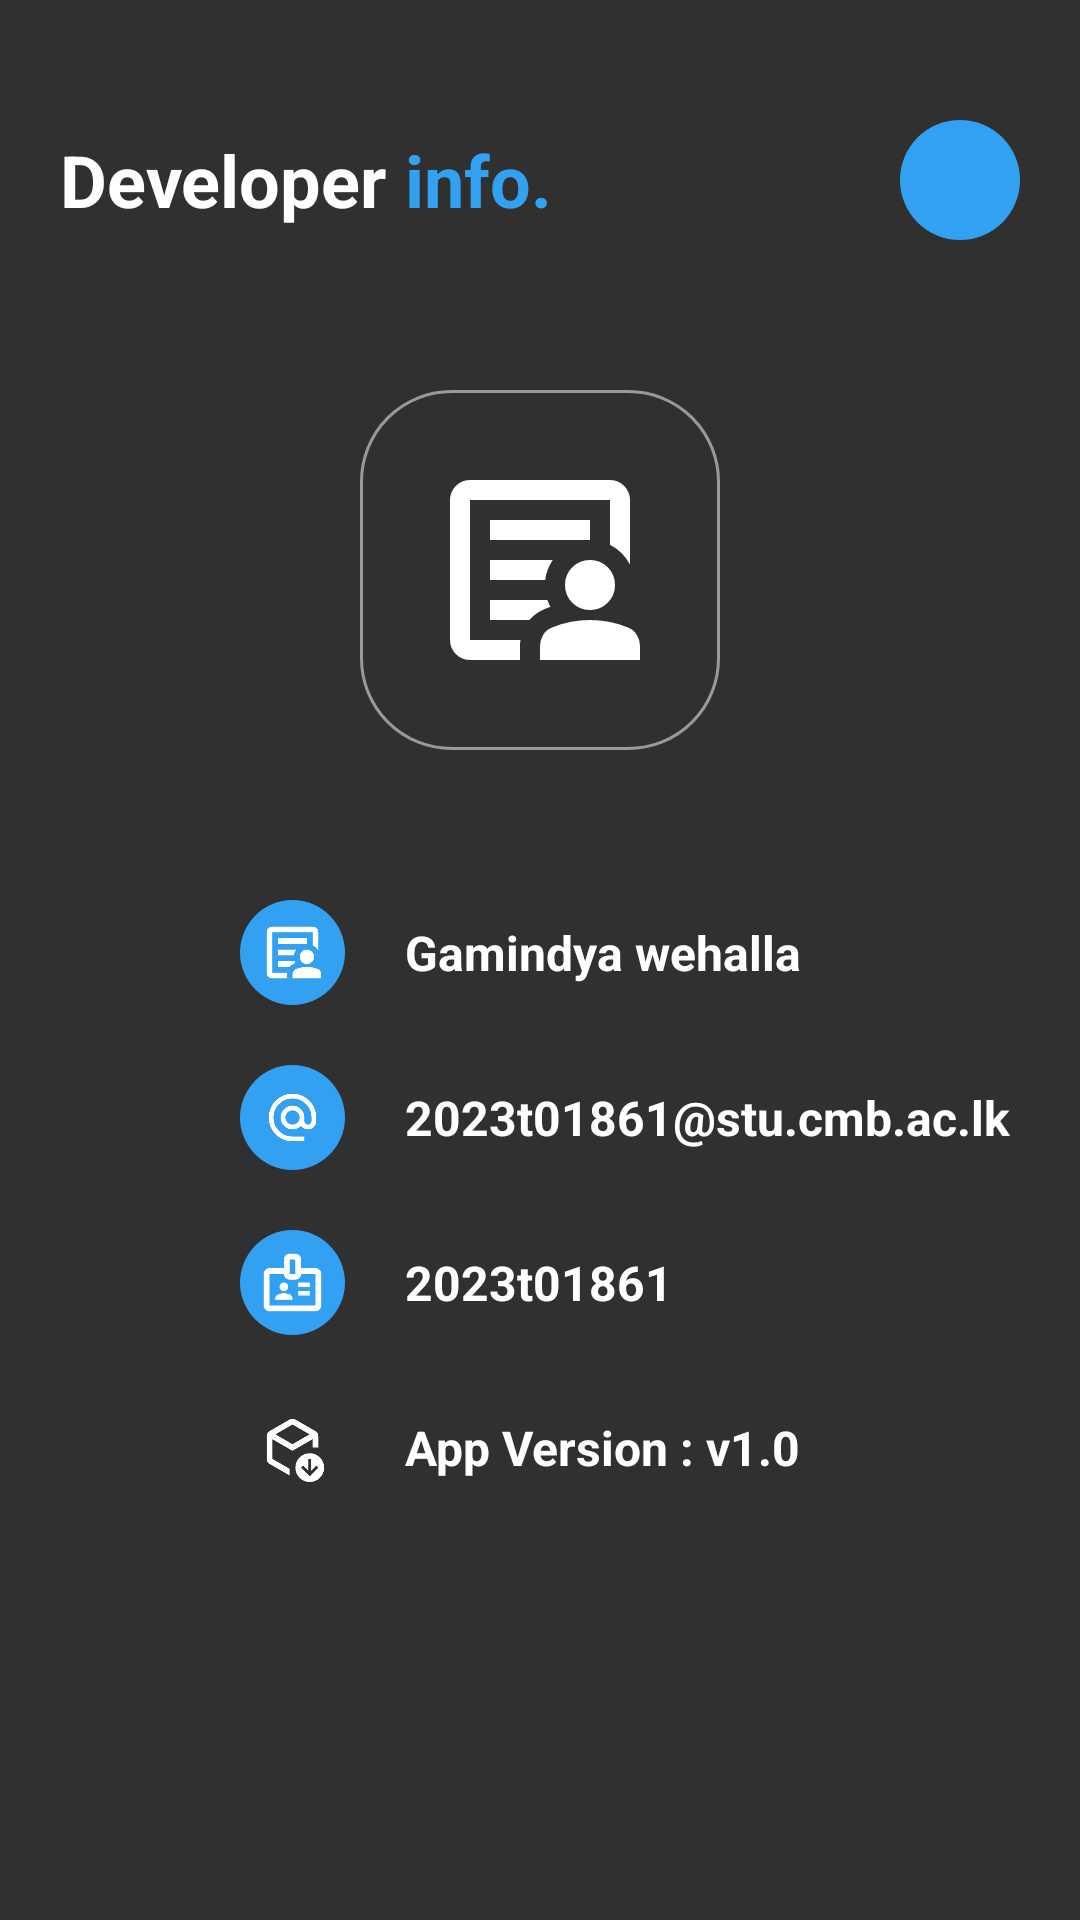

Named icons in this screenshot (1080 × 1920) and their bounding boxes, (x1, y1, x2, y2):
email: (240, 1065, 345, 1170)
id card: (240, 1230, 345, 1335)
person: (360, 390, 720, 750), (240, 900, 345, 1005)
